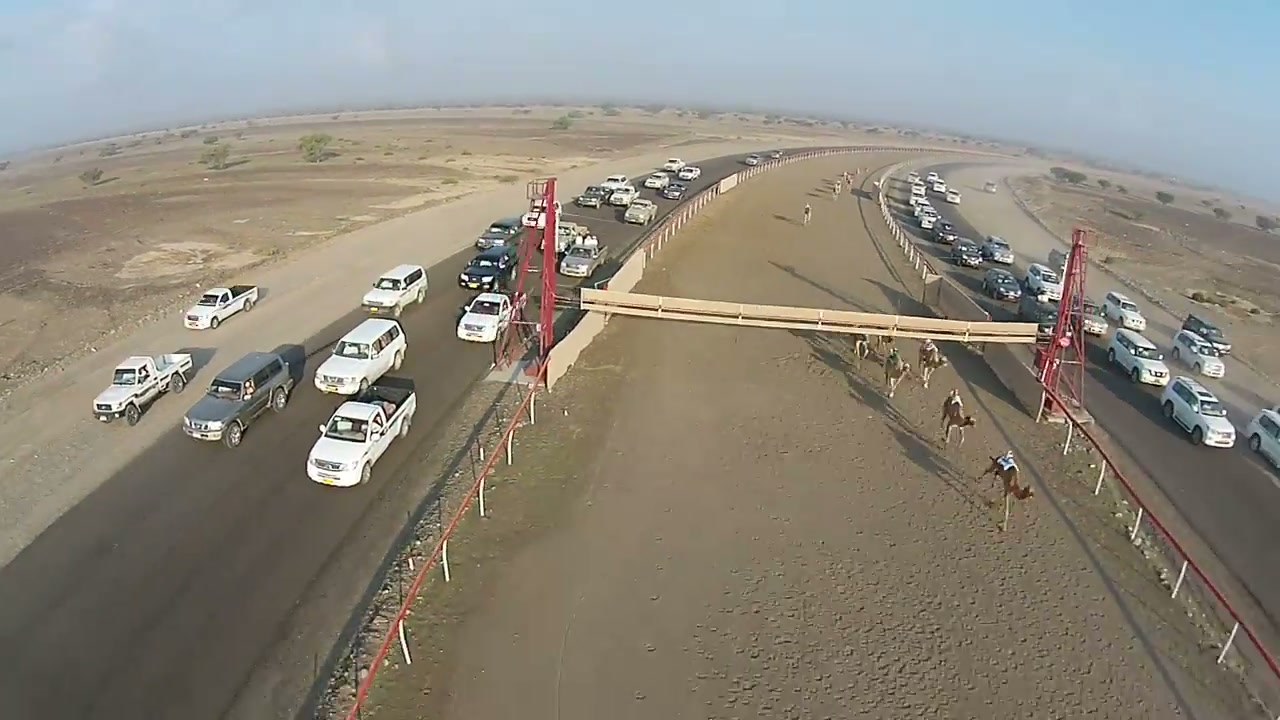animal_footprint: (906, 442, 1162, 715), (729, 518, 913, 709)
